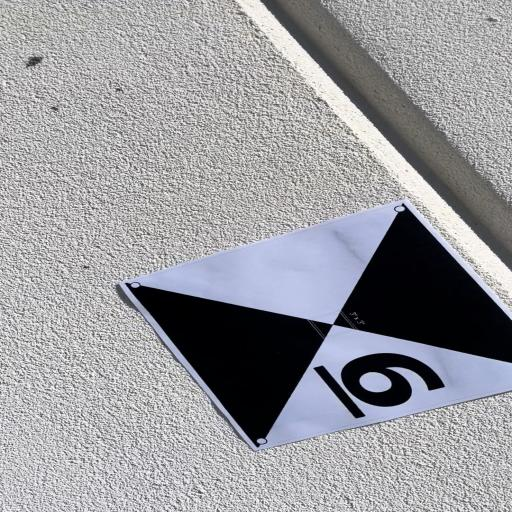target6: (115, 198, 512, 453)
